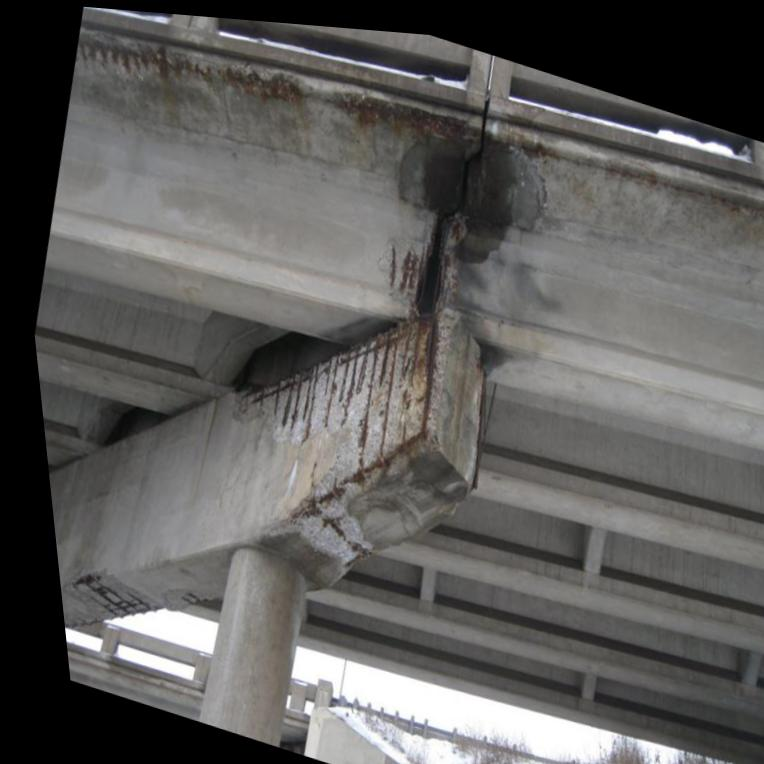crack: (414, 89, 489, 306)
